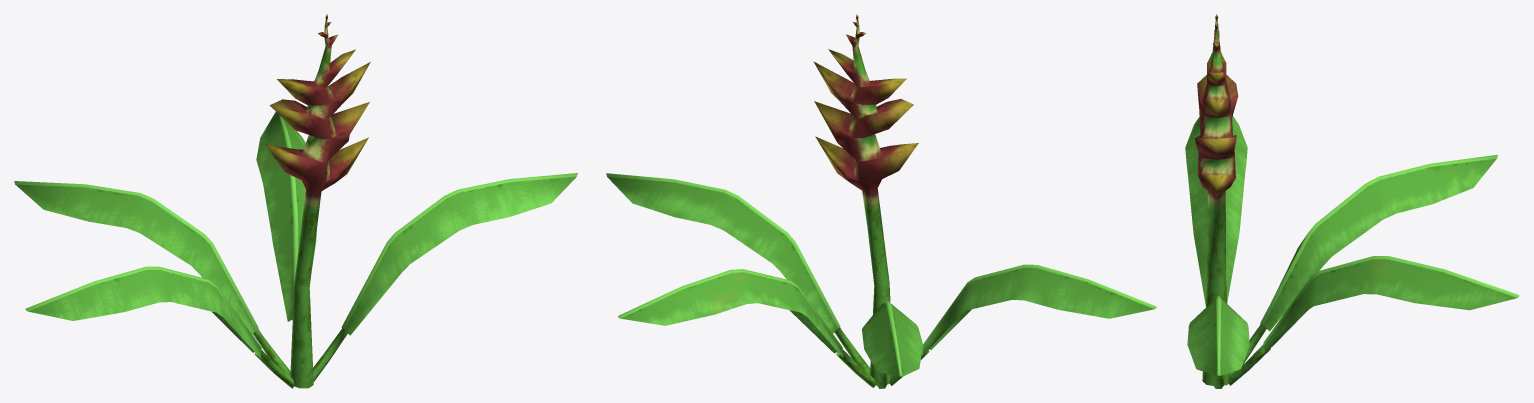
The model's file is art_3D model_Environment_Heliconia 22.fbx.
3 renders of one model, left to right at view 1: azimuth 30°, elevation 25°; view 2: azimuth 150°, elevation 25°; view 3: azimuth 270°, elevation 25°, orthographic. The views are drawn at different scales.
Visible parts, largest first — view 1: heliconia; view 2: heliconia; view 3: heliconia.
Part boxes in pixels (x1,y1,x2,y2): heliconia: (14, 14, 577, 388); heliconia: (606, 14, 1156, 388); heliconia: (1185, 14, 1519, 388).
Bounding box in the file's own units: 151 × 95.13 × 75.4.
Materials: 1 (1 with a texture image).
